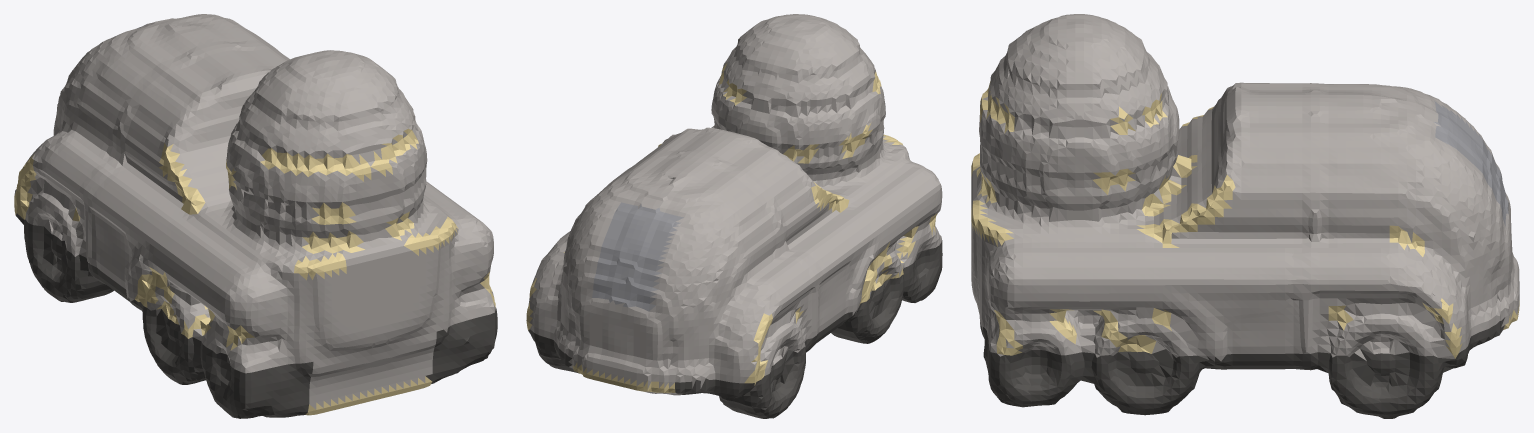
File: unit_dynamo.glb
The picture shows the model from 3 angles, left to right: view 1: azimuth 30°, elevation 25°; view 2: azimuth 150°, elevation 25°; view 3: azimuth 270°, elevation 25°; orthographic projection. The views are drawn at different scales.
Visible parts, largest first — view 1: Mesh_0.051; view 2: Mesh_0.051; view 3: Mesh_0.051.
Boxes of the visible parts, left/top/right/bottom form: Mesh_0.051: left=14, top=14, right=497, bottom=418; Mesh_0.051: left=526, top=14, right=942, bottom=418; Mesh_0.051: left=971, top=14, right=1519, bottom=418.
Bounding box in the file's own units: 1.61 × 1.8 × 2.7.
